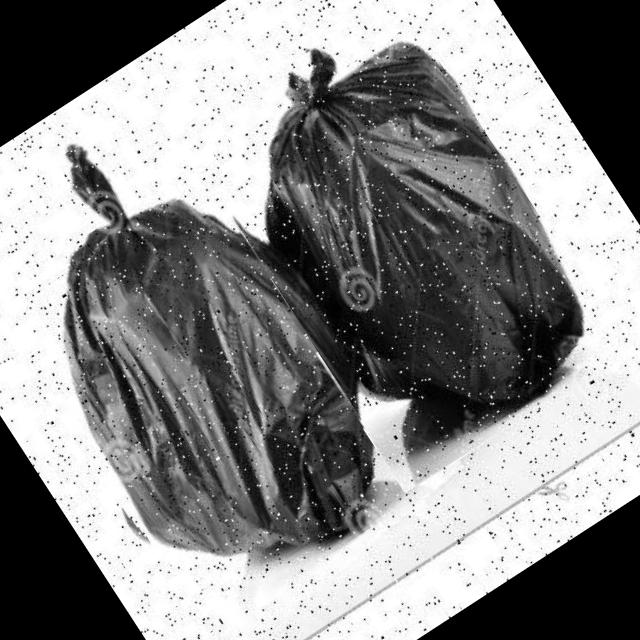KantongPlastik: (0, 78, 430, 628), (189, 0, 624, 475)
